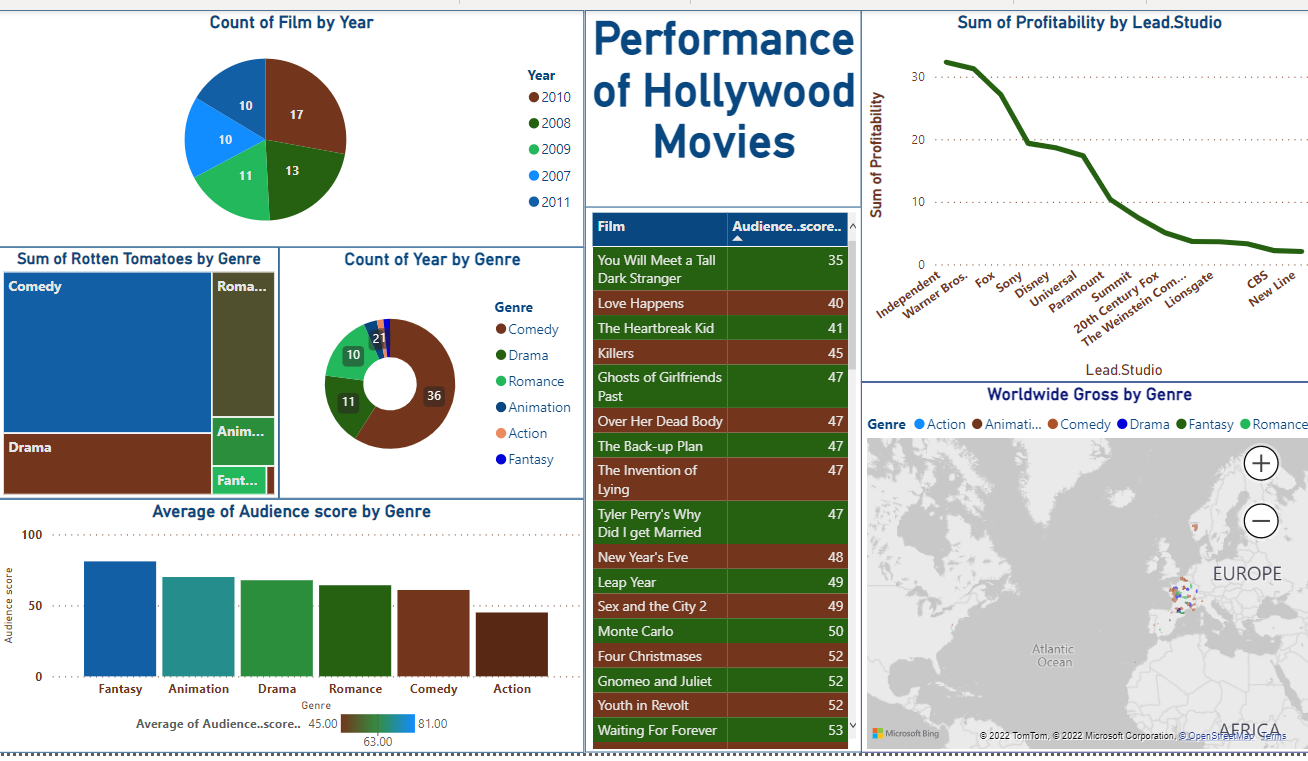

What the dashboard file says about the page in this screenshot:
{"tool":"powerbi","page":{"name":"Page 1","canvas":[1280,720],"ordinal":0},"visuals":[{"type":"clusteredColumnChart","title":"Average of Audience score by Genre","fields":{"Y":["Avg(clean_df.Audience..score..)"],"Category":["clean_df.Genre"]},"box":[0,474.1,569.5,245.9],"z":0},{"type":"pieChart","title":"Count of Film by Year","fields":{"Category":["clean_df.Year"],"Y":["CountNonNull(clean_df.Film)"]},"box":[0,0,569.5,229.8],"z":1000},{"type":"tableEx","fields":{"Values":["clean_df.Film","clean_df.Audience..score.."]},"box":[569.5,190.9,268.6,529.1],"z":2000},{"type":"lineChart","fields":{"Category":["clean_df.Lead.Studio"],"Y":["Sum(clean_df.Profitability)"]},"box":[838.1,0,441.7,360.8],"z":3000},{"type":"filledMap","title":"Worldwide Gross by Genre","fields":{"Series":["clean_df.Genre"],"Category":["clean_df.Worldwide.Gross"]},"box":[838.1,360.8,441.7,359.2],"z":4000},{"type":"treemap","title":"Sum of Rotten Tomatoes by Genre","fields":{"Values":["Sum(clean_df.Rotten.Tomatoes..)"],"Group":["clean_df.Genre"]},"box":[0,229.8,273.4,244.3],"z":5000},{"type":"donutChart","title":"Count of Year by Genre","fields":{"Y":["CountNonNull(clean_df.Year)"],"Category":["clean_df.Genre"]},"box":[273.4,229.8,296.1,244.3],"z":6000},{"type":"textbox","title":"Performance of Hollywood Movies","box":[570,0,268,191],"z":7000}]}

Visuals, with their boxes in screenshot pixels (x1, y1, x2, y2):
"Average of Audience score by Genre" clusteredColumnChart: rect(10, 498, 584, 746)
"Count of Film by Year" pieChart: rect(10, 20, 584, 252)
tableEx - clean_df.Film x clean_df.Audience..score..: rect(584, 213, 855, 746)
lineChart - clean_df.Lead.Studio x Sum(clean_df.Profitability): rect(855, 20, 1300, 384)
"Worldwide Gross by Genre" filledMap: rect(855, 384, 1300, 746)
"Sum of Rotten Tomatoes by Genre" treemap: rect(10, 252, 286, 498)
"Count of Year by Genre" donutChart: rect(286, 252, 584, 498)
"Performance of Hollywood Movies" textbox: rect(585, 20, 855, 213)
